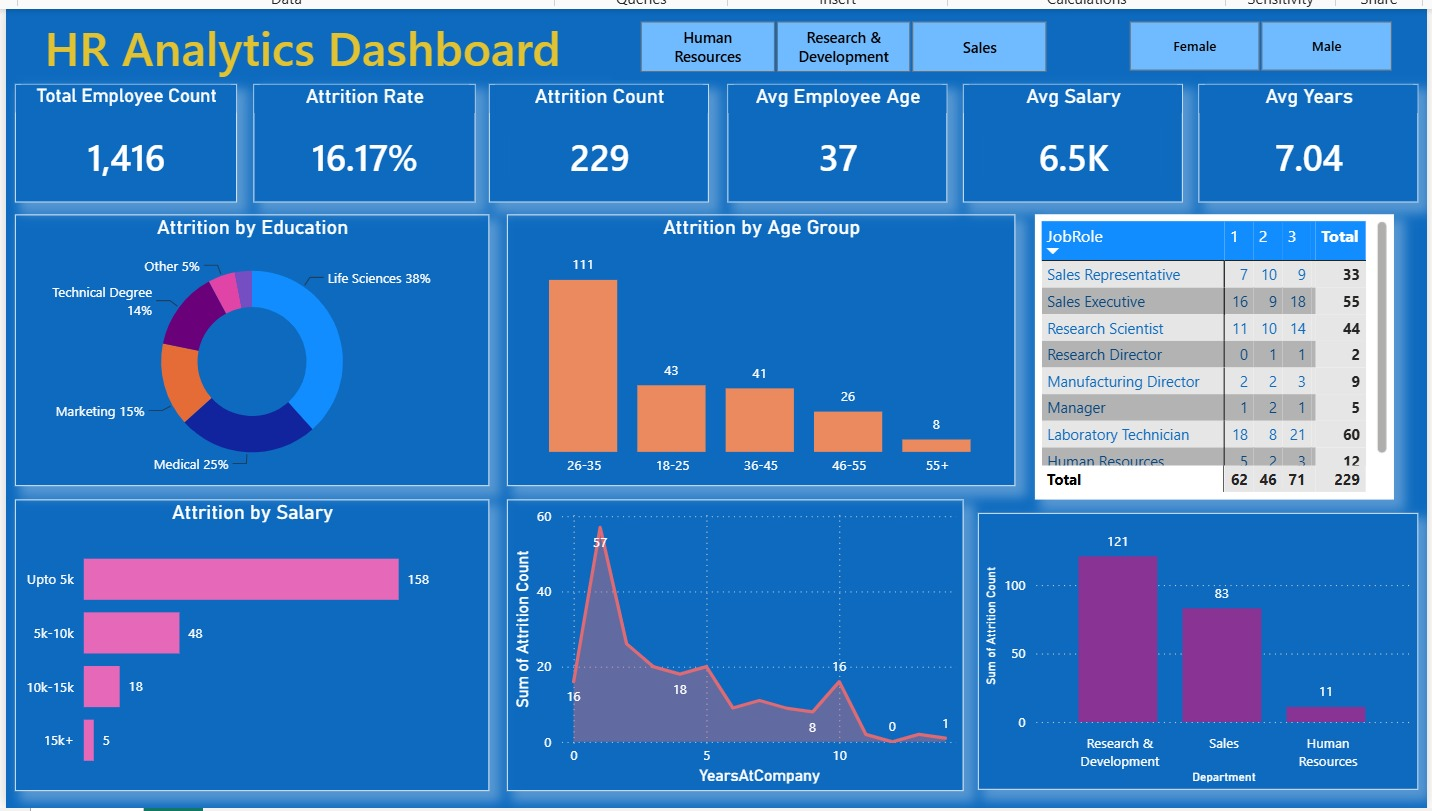

This screenshot's page, from the dashboard's own definition file:
{"tool":"powerbi","page":{"name":"Page 1","canvas":[1280,720],"ordinal":0},"visuals":[{"type":"cardVisual","title":"Total Employee Count","fields":{"Data":["Sum(HR_Analytics.EmployeeCount)"]},"box":[8.7,67.1,199.7,106.4],"z":0},{"type":"cardVisual","title":"Attrition Rate","fields":{"Data":["HR_Analytics.Attrition Rate"]},"box":[223.1,67.1,199.7,106.4],"z":1000},{"type":"cardVisual","title":"Attrition Count","fields":{"Data":["Sum(HR_Analytics.Attrition Count)"]},"box":[435.9,67.1,198.3,106.4],"z":2000},{"type":"cardVisual","title":"Avg Employee Age","fields":{"Data":["Avg(HR_Analytics.Age)"]},"box":[650.2,67.1,198.3,106.4],"z":3000},{"type":"clusteredColumnChart","title":"Attrition by Age Group","fields":{"Category":["HR_Analytics.AgeGroup"],"Y":["Sum(HR_Analytics.Attrition Count)"]},"box":[451.9,185.1,457.8,244.9],"z":4000},{"type":"slicer","fields":{"Values":["HR_Analytics.Department"]},"box":[546.7,4.4,415.5,59.8],"z":5000},{"type":"slicer","fields":{"Values":["HR_Analytics.Gender"]},"box":[987,4.4,285.7,58.3],"z":6000},{"type":"areaChart","fields":{"Category":["HR_Analytics.YearsAtCompany"],"Y":["Sum(HR_Analytics.Attrition Count)"]},"box":[451.9,441.7,411.1,262.4],"z":7000},{"type":"cardVisual","title":"Avg Salary","fields":{"Data":["Avg(HR_Analytics.MonthlyIncome)"]},"box":[863.1,67.1,198.3,106.4],"z":8000},{"type":"cardVisual","title":"Avg Years","fields":{"Data":["Avg(HR_Analytics.YearsAtCompany)"]},"box":[1074.4,67.1,198.3,106.4],"z":9000},{"type":"donutChart","title":"Attrition by Education","fields":{"Category":["HR_Analytics.EducationField"],"Y":["Sum(HR_Analytics.Attrition Count)"]},"box":[8.7,185.1,427.2,244.9],"z":10000},{"type":"clusteredBarChart","title":"Attrition by Salary","fields":{"Category":["HR_Analytics.SalarySlab"],"Y":["Sum(HR_Analytics.Attrition Count)"]},"box":[8.7,441.7,427.2,262.4],"z":11000},{"type":"pivotTable","fields":{"Rows":["HR_Analytics.JobRole"],"Values":["Sum(HR_Analytics.Attrition Count)"],"Columns":["HR_Analytics.JobSatisfaction"]},"box":[927.2,185.1,323.6,256.6],"z":12000},{"type":"clusteredColumnChart","fields":{"Category":["HR_Analytics.Department"],"Y":["Sum(HR_Analytics.Attrition Count)"]},"box":[876.2,454.9,396.5,249.3],"z":13000},{"type":"textbox","box":[0,0,535,67.1],"z":14000}]}

Visuals, with their boxes in screenshot pixels (x1, y1, x2, y2):
"Total Employee Count" cardVisual: [x1=2, y1=77, x2=231, y2=198]
"Attrition Rate" cardVisual: [x1=248, y1=77, x2=476, y2=198]
"Attrition Count" cardVisual: [x1=491, y1=77, x2=718, y2=198]
"Avg Employee Age" cardVisual: [x1=736, y1=77, x2=963, y2=198]
"Attrition by Age Group" clusteredColumnChart: [x1=509, y1=212, x2=1033, y2=492]
slicer - HR_Analytics.Department: [x1=618, y1=5, x2=1093, y2=73]
slicer - HR_Analytics.Gender: [x1=1122, y1=5, x2=1431, y2=72]
areaChart - HR_Analytics.YearsAtCompany x Sum(HR_Analytics.Attrition Count): [x1=509, y1=505, x2=980, y2=805]
"Avg Salary" cardVisual: [x1=980, y1=77, x2=1207, y2=198]
"Avg Years" cardVisual: [x1=1221, y1=77, x2=1431, y2=198]
"Attrition by Education" donutChart: [x1=2, y1=212, x2=491, y2=492]
"Attrition by Salary" clusteredBarChart: [x1=2, y1=505, x2=491, y2=805]
pivotTable - HR_Analytics.JobRole x Sum(HR_Analytics.Attrition Count): [x1=1053, y1=212, x2=1423, y2=505]
clusteredColumnChart - HR_Analytics.Department x Sum(HR_Analytics.Attrition Count): [x1=995, y1=520, x2=1431, y2=805]
textbox: [x1=0, y1=0, x2=604, y2=77]
